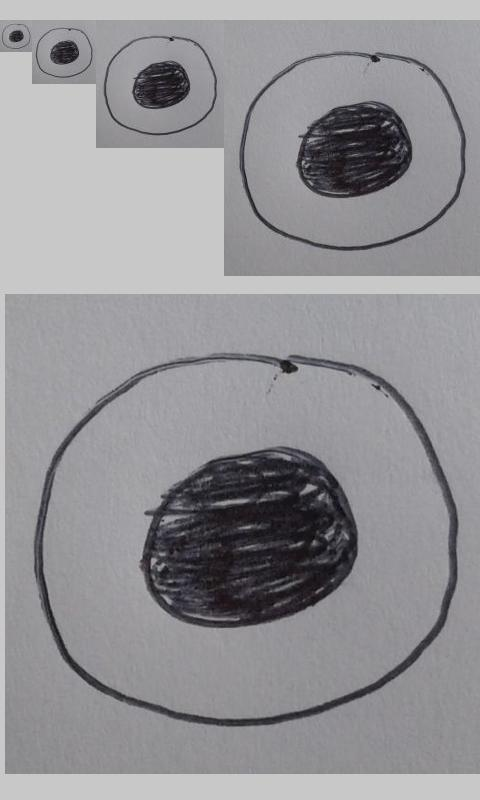radio_button: (32, 351, 460, 729), (238, 50, 467, 252), (103, 35, 218, 136), (35, 27, 94, 79), (1, 23, 31, 50)
